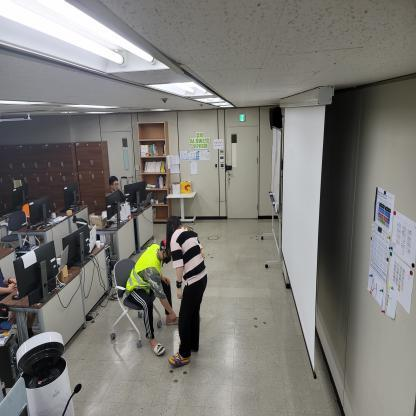Sitting: (126, 237, 178, 356)
Standing: (167, 216, 207, 366)
safety_equipment: (125, 244, 161, 294), (162, 236, 172, 258)
